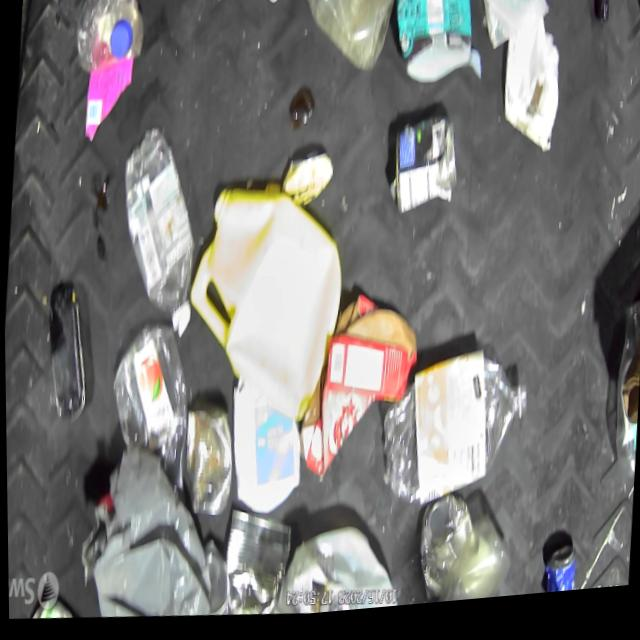can: (383, 112, 459, 226), (411, 495, 474, 610), (177, 402, 235, 521)
milk_jug: (177, 180, 349, 436), (222, 375, 304, 523), (192, 0, 286, 15)
plastic_bottle: (110, 123, 203, 345), (286, 0, 397, 84), (607, 310, 640, 494), (71, 0, 148, 78)
